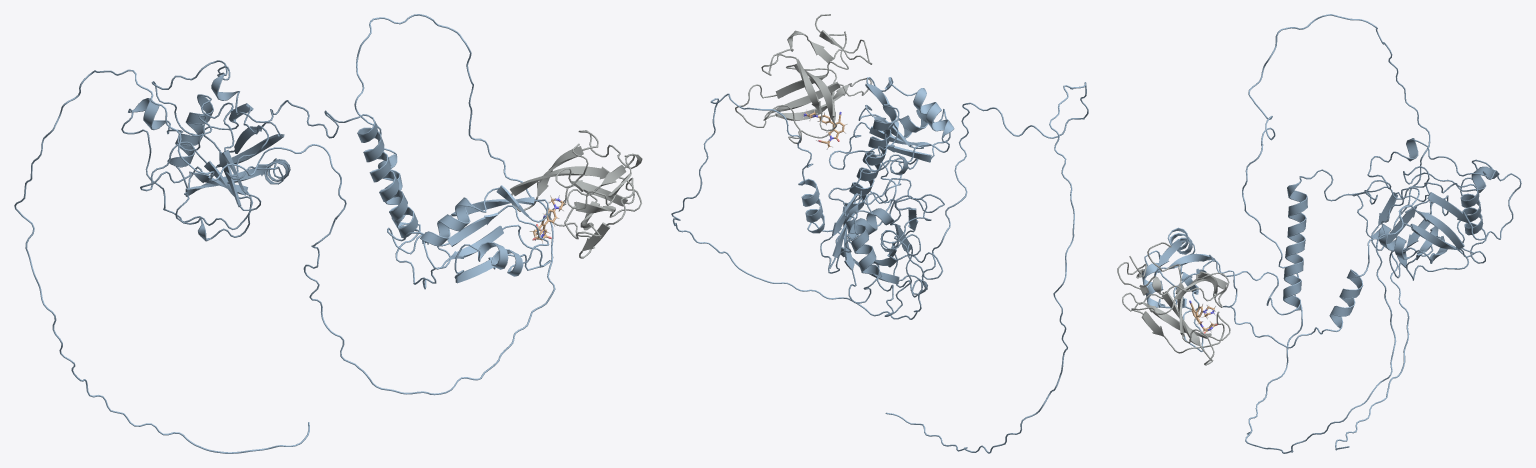
3 views of the same model, side by side, from view 1: azimuth 30°, elevation 25°; view 2: azimuth 150°, elevation 25°; view 3: azimuth 270°, elevation 25° (orthographic). The views are drawn at different scales.
Parts seen in each view (by area): view 1: node-geom98, node-geom99; view 2: node-geom98, node-geom99; view 3: node-geom98, node-geom99.
Part boxes in pixels (left/top/right/bottom): node-geom98: left=121, top=60, right=642, bottom=258; node-geom99: left=14, top=14, right=555, bottom=453; node-geom98: left=735, top=14, right=944, bottom=316; node-geom99: left=671, top=77, right=1088, bottom=453; node-geom98: left=1117, top=138, right=1521, bottom=365; node-geom99: left=1142, top=14, right=1430, bottom=453.
Bounding box in the file's own units: 131 × 106 × 106.
